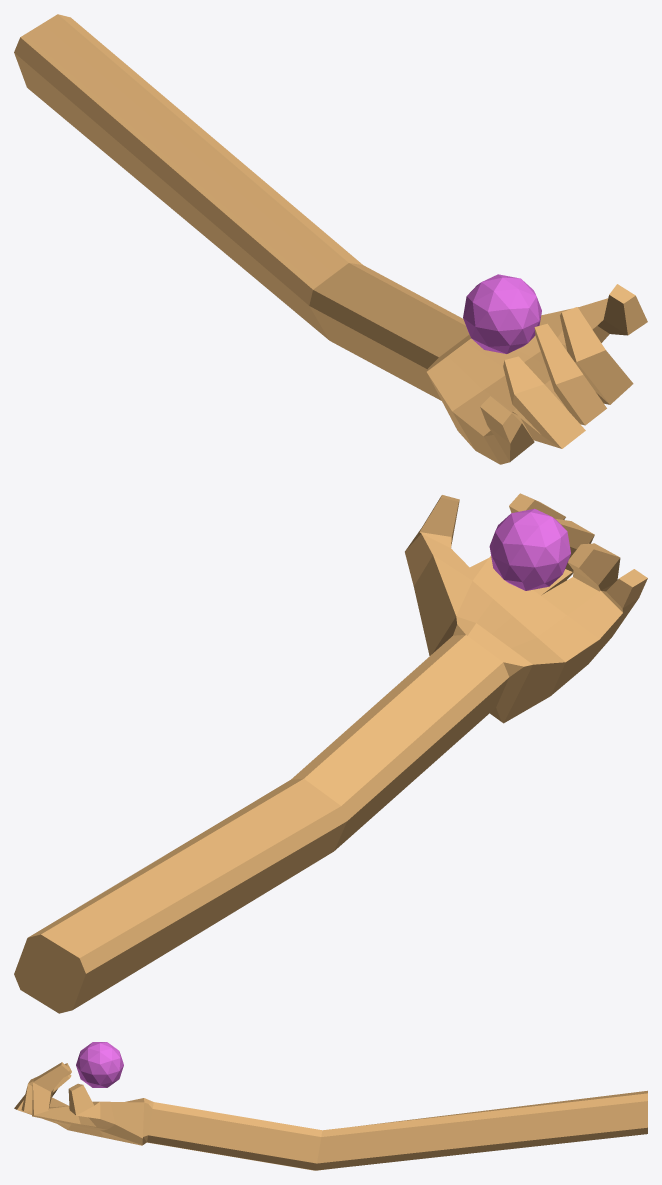
Rendered from HandBuff.fbx.
3 renders of one model, top to bottom at view 1: azimuth 30°, elevation 25°; view 2: azimuth 150°, elevation 25°; view 3: azimuth 270°, elevation 25°, orthographic. The views are drawn at different scales.
Visible parts, largest first — view 1: Cube.004, Icosphere; view 2: Cube.004, Icosphere; view 3: Cube.004, Icosphere.
Part boxes in pixels (bbox=[...]): Cube.004: bbox=[14, 14, 647, 464]; Icosphere: bbox=[463, 274, 541, 353]; Cube.004: bbox=[14, 493, 647, 1013]; Icosphere: bbox=[489, 508, 570, 590]; Cube.004: bbox=[14, 1062, 647, 1170]; Icosphere: bbox=[76, 1042, 123, 1087].
Size of the model in its own units: 532 by 554 by 2631.
